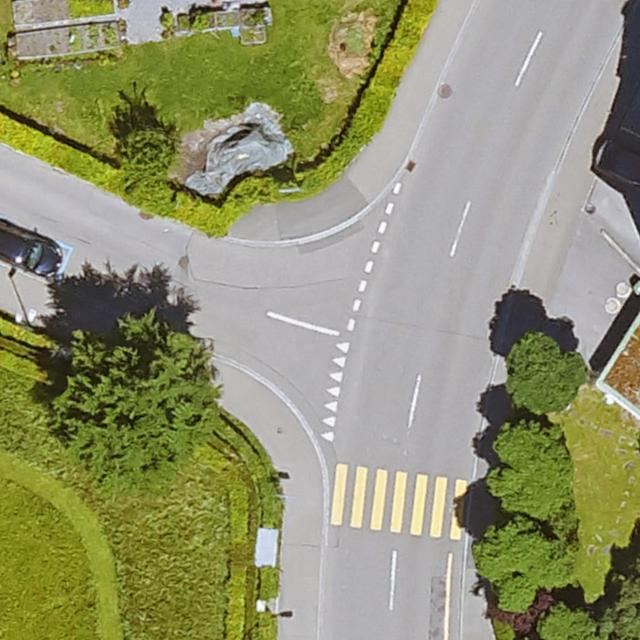tree: (48, 310, 224, 490), (476, 508, 576, 610), (497, 421, 579, 522), (506, 329, 591, 416), (597, 543, 640, 640), (118, 128, 178, 177), (540, 607, 601, 640)
